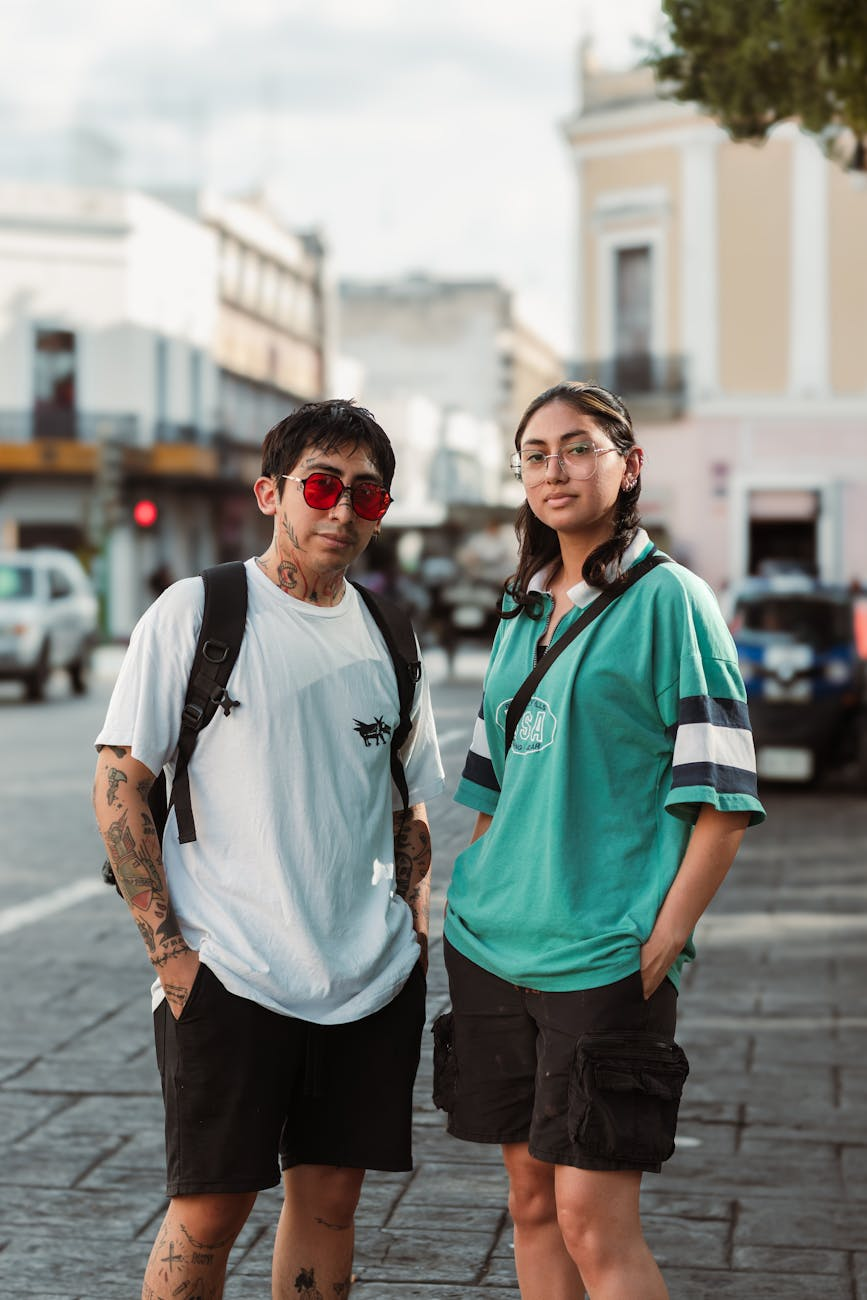shorts: (131, 958, 436, 1196), (422, 946, 704, 1172)
